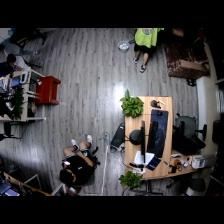normal: (57, 135, 96, 183), (132, 27, 159, 72), (1, 42, 38, 57), (7, 53, 32, 73)
